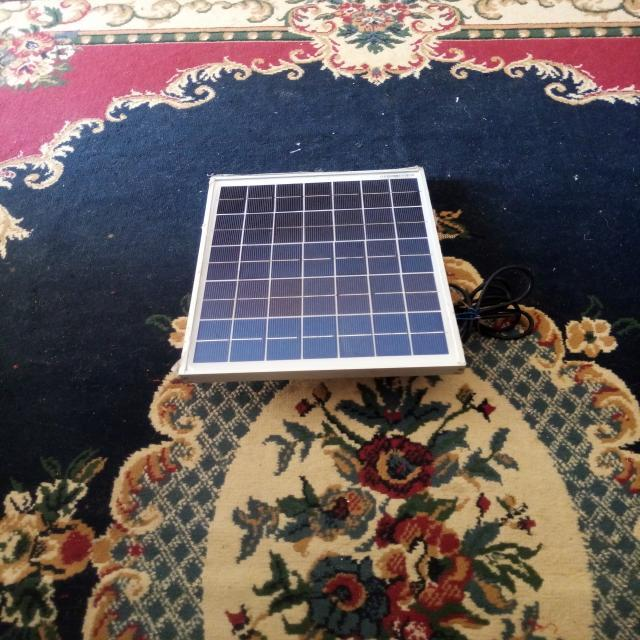no faulty: (179, 168, 466, 376)
